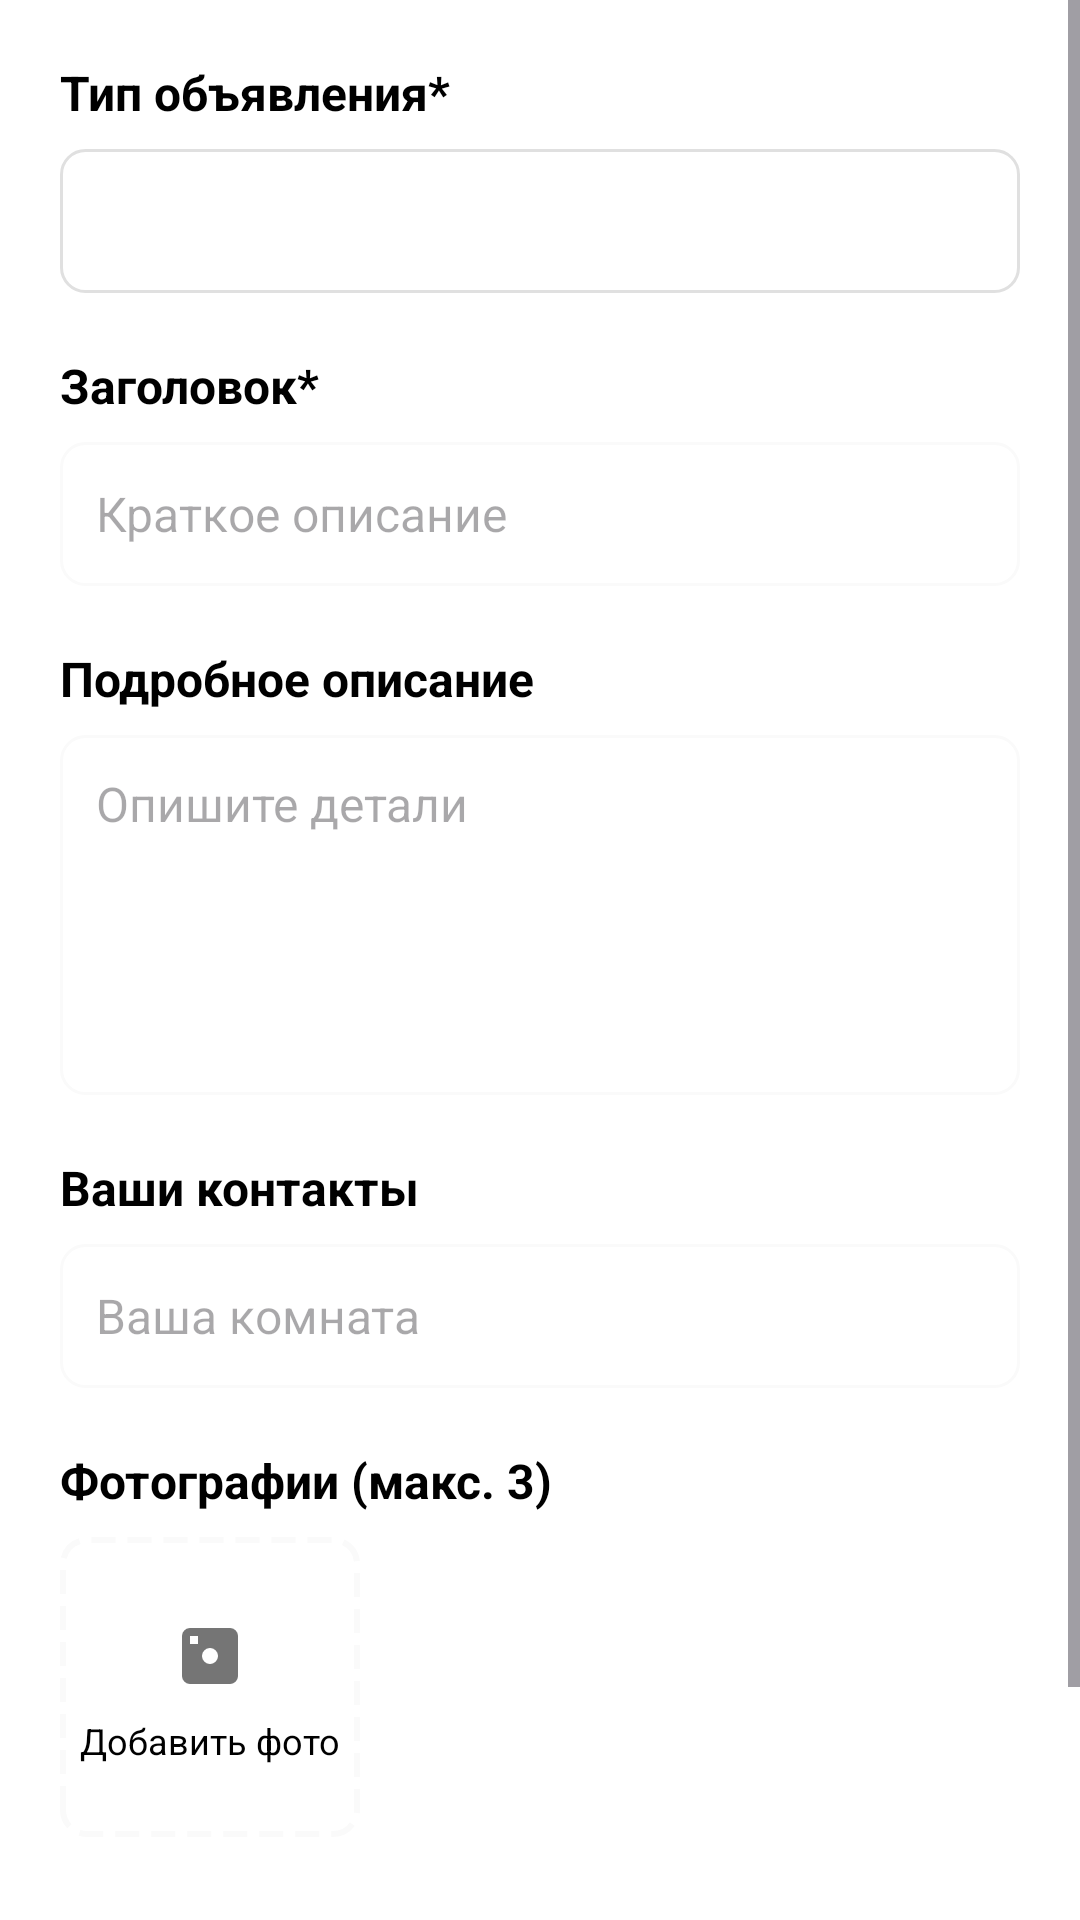

Where icons sit on this 1080px x 1920px app screen, as BBox(x1, y1, x2, y2):
camera: BBox(182, 1628, 238, 1684)
